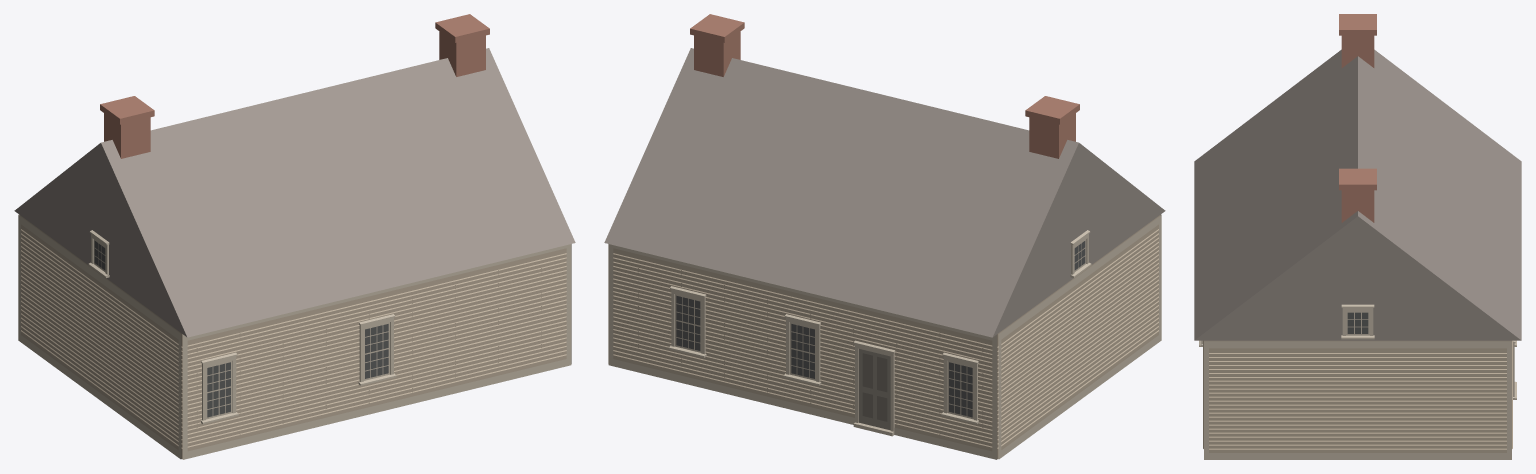
Rendered from kimberly_residence__frame_1835.glb.
3 renders of one model, left to right at view 1: azimuth 30°, elevation 25°; view 2: azimuth 150°, elevation 25°; view 3: azimuth 270°, elevation 25°, orthographic. The views are drawn at different scales.
Parts seen in each view (by area): view 1: kimberly_residence__frame_1835; view 2: kimberly_residence__frame_1835; view 3: kimberly_residence__frame_1835.
Part boxes in pixels (x1=…): kimberly_residence__frame_1835: x1=14, y1=14, x2=575, y2=459; kimberly_residence__frame_1835: x1=604, y1=14, x2=1165, y2=459; kimberly_residence__frame_1835: x1=1194, y1=14, x2=1521, y2=459.
Bounding box in the file's own units: 11.21 × 7.75 × 8.5.
